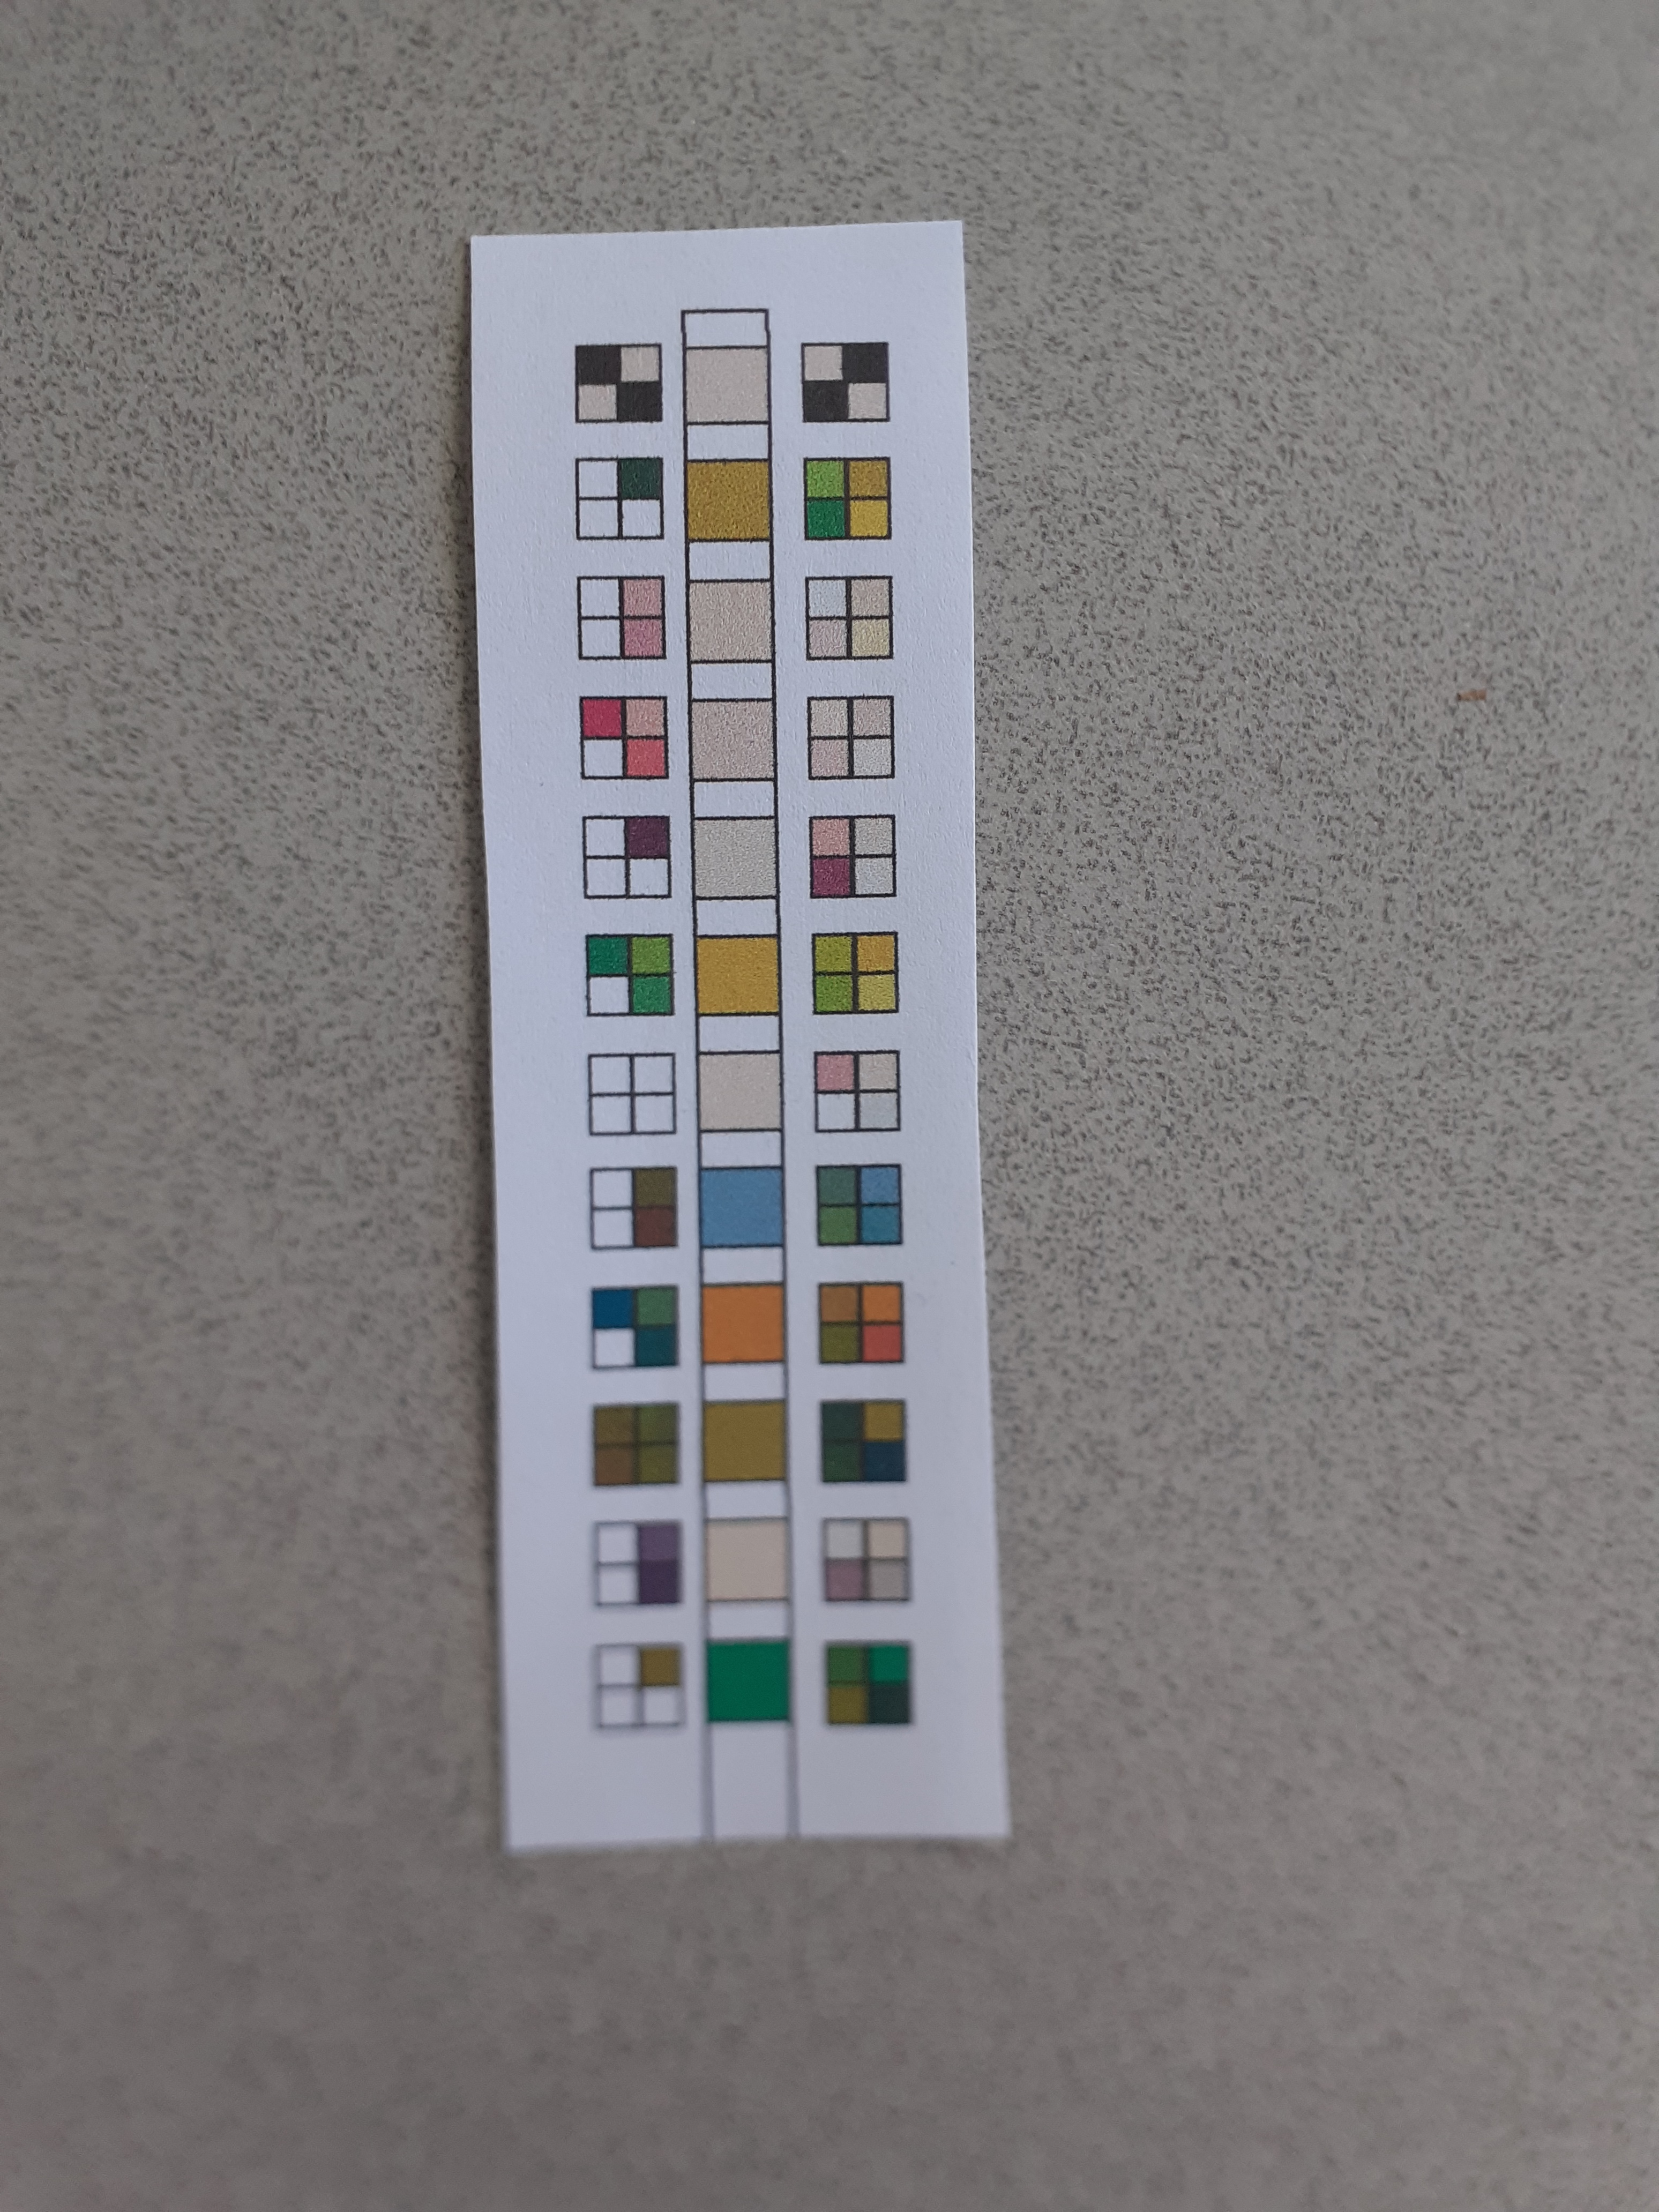tester: (465, 225, 1012, 1839)
